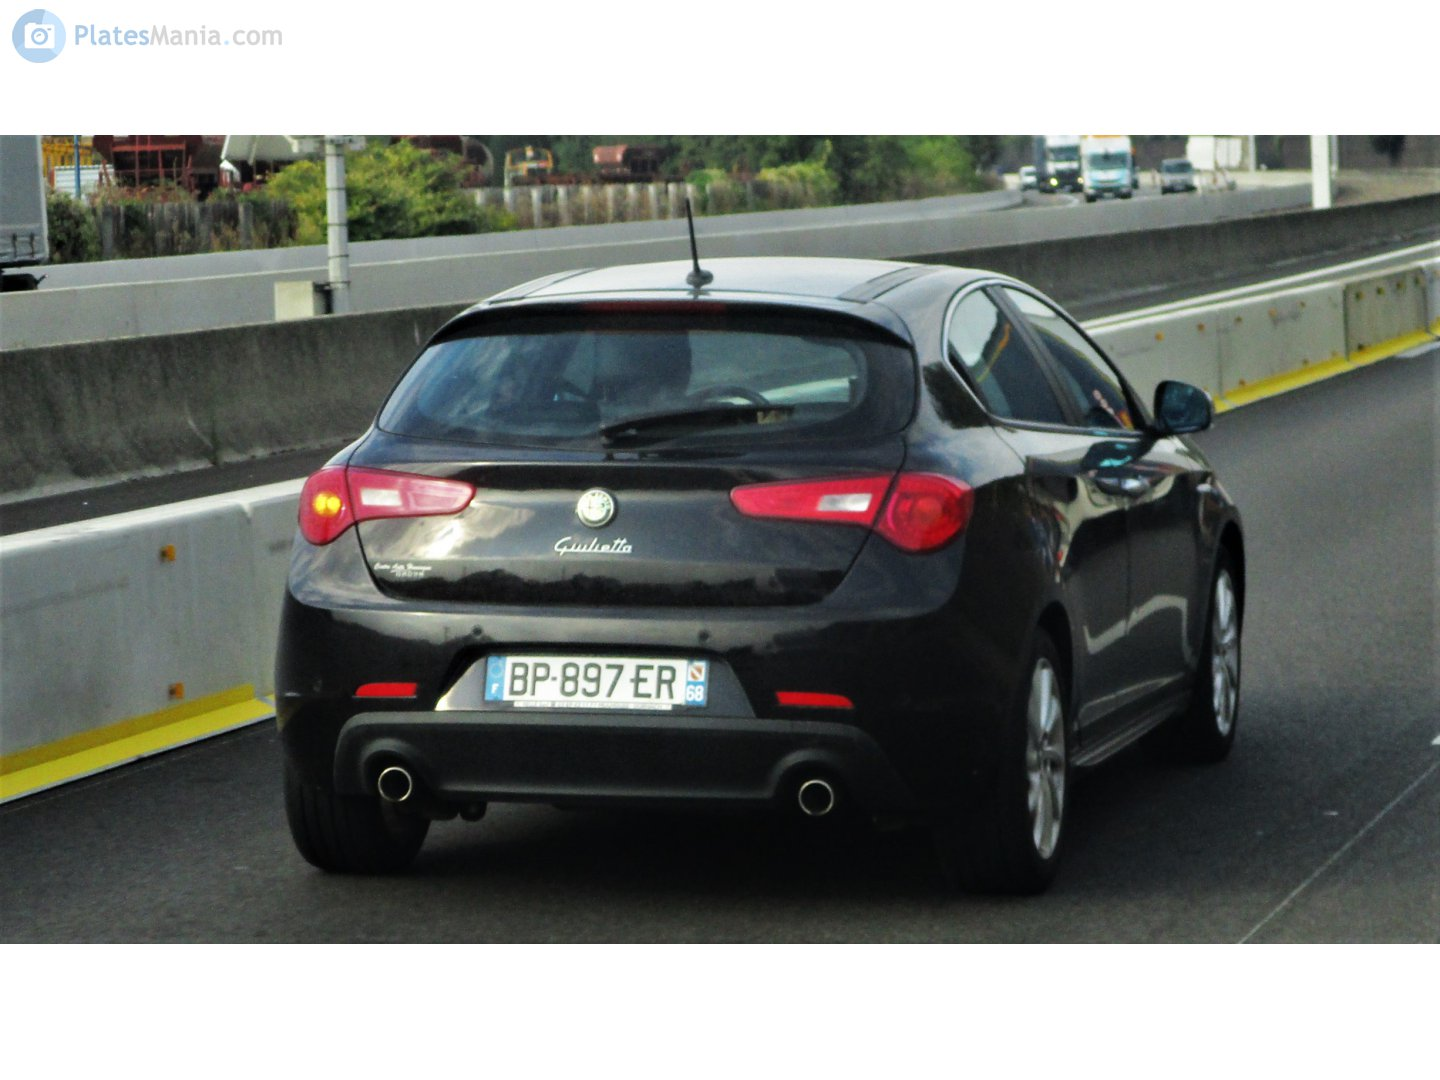licence plate: (481, 650, 710, 716)
